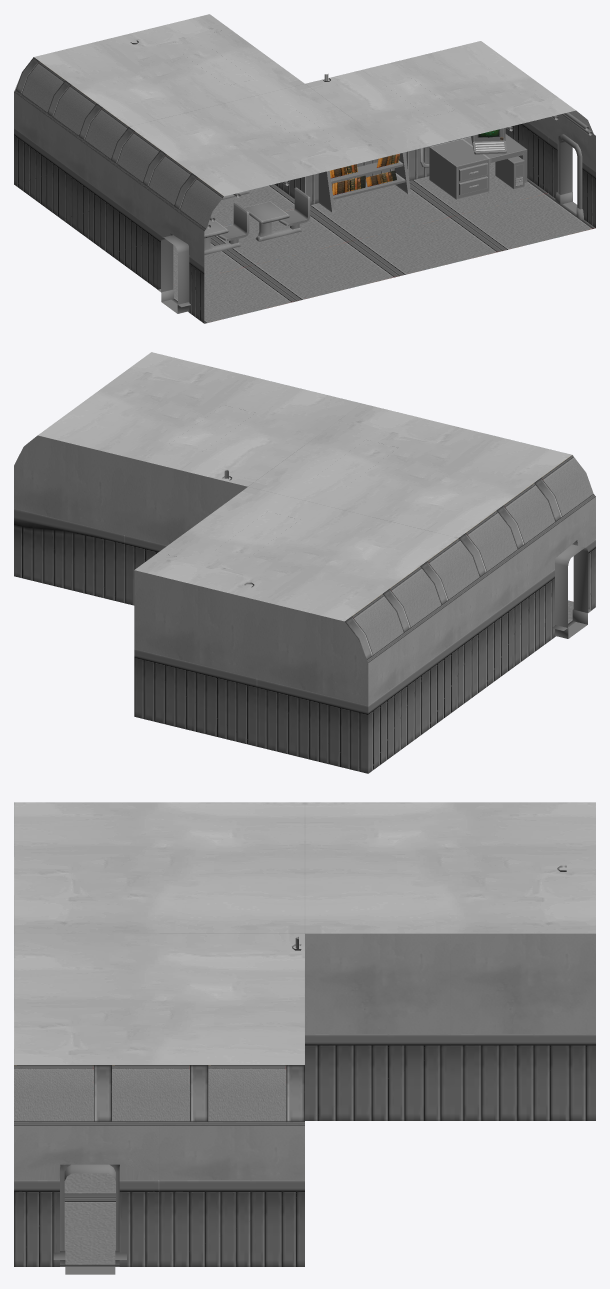
Rendered from MSH_Class_room_L2_R2_optimized.fbx.
The picture shows the model from 3 angles, top to bottom: view 1: azimuth 30°, elevation 25°; view 2: azimuth 150°, elevation 25°; view 3: azimuth 270°, elevation 25°; orthographic projection. The views are drawn at different scales.
Visible parts, largest first — view 1: lightmap1, lightmap-1; view 2: lightmap1, lightmap-1; view 3: lightmap1, lightmap-1.
Part boxes in pixels (x1=…): lightmap1: x1=14, y1=14, x2=595, y2=323; lightmap-1: x1=161, y1=140, x2=577, y2=313; lightmap1: x1=14, y1=352, x2=595, y2=773; lightmap-1: x1=555, y1=544, x2=588, y2=638; lightmap1: x1=14, y1=802, x2=595, y2=1266; lightmap-1: x1=64, y1=1164, x2=115, y2=1274.
Size of the model in its own units: 20.61 by 6.19 by 16.51.
3 materials, 3 textured.
